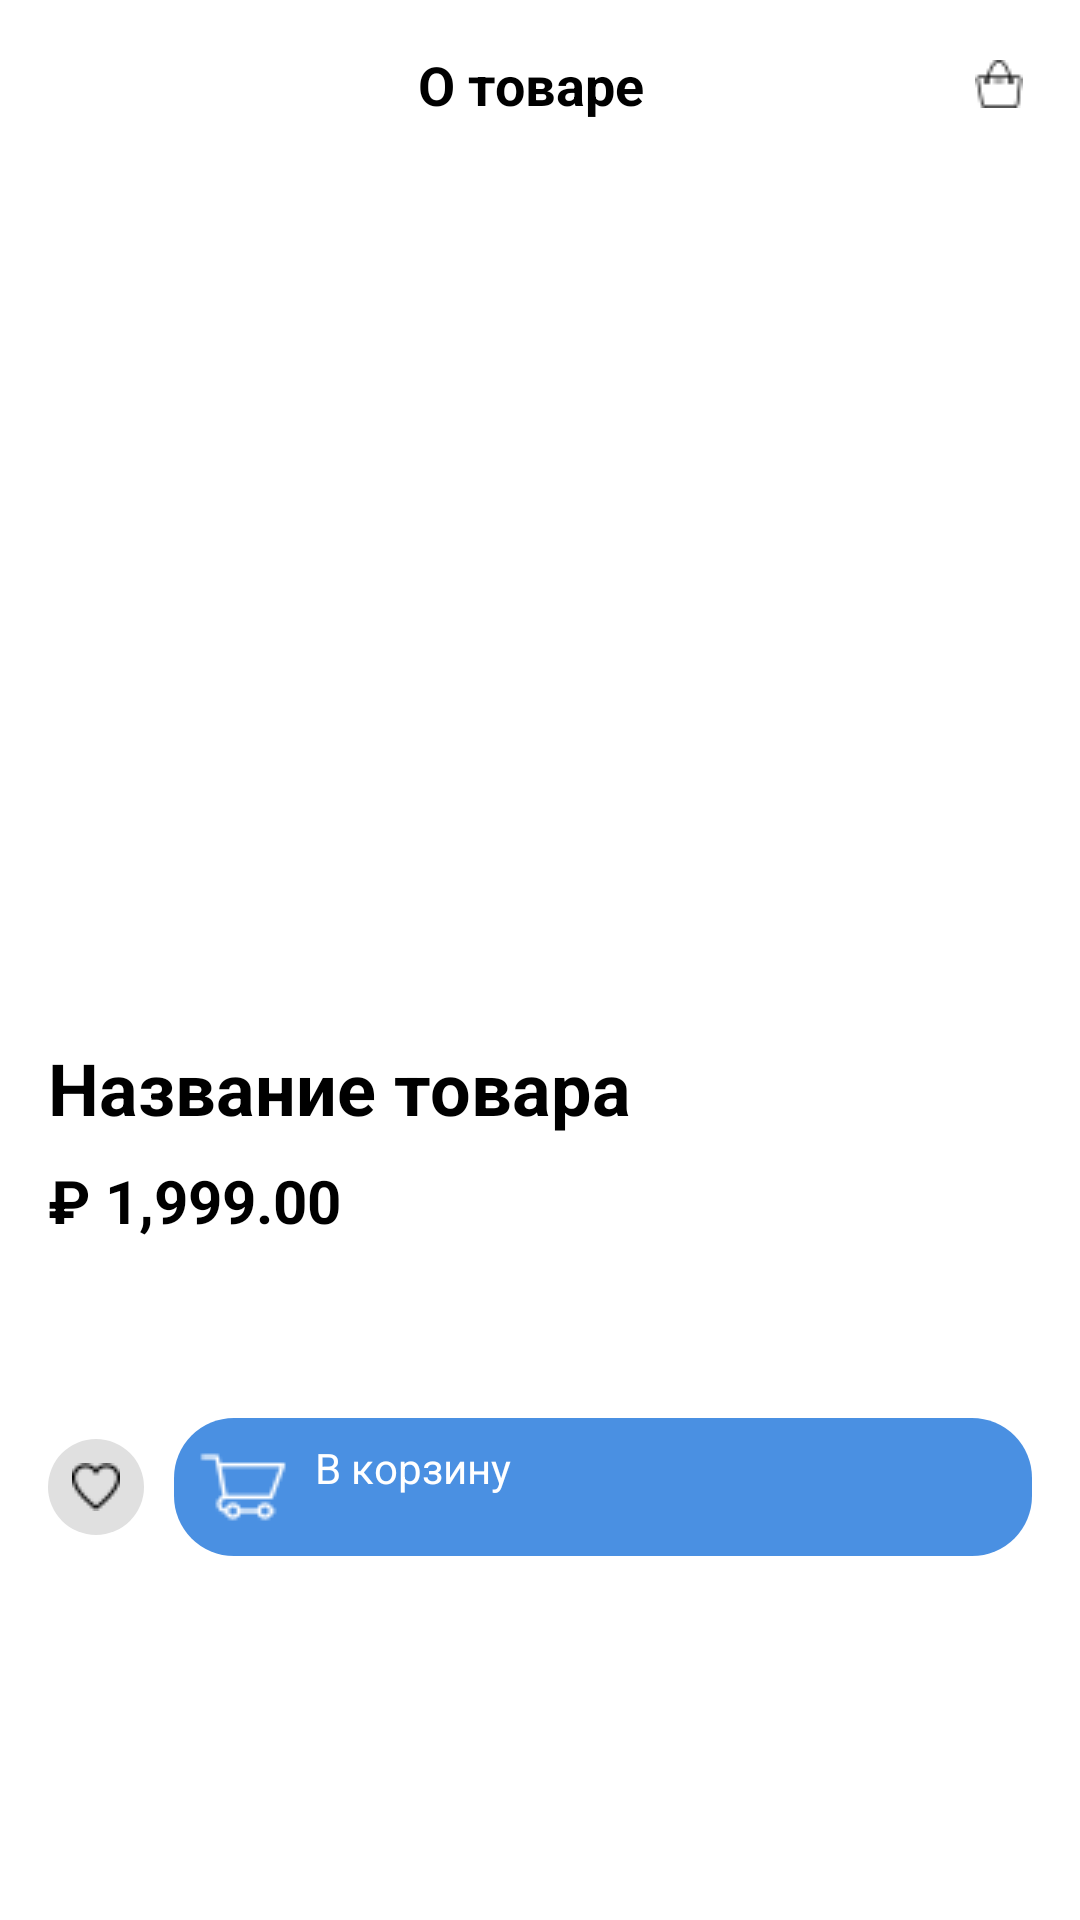

Screen size 1080 x 1920. Icon name, then its box in pixels as rect(x1, y1, x2, y2):
Add to Favorites: rect(48, 1439, 144, 1535)
Go to Cart: rect(975, 60, 1023, 108)
